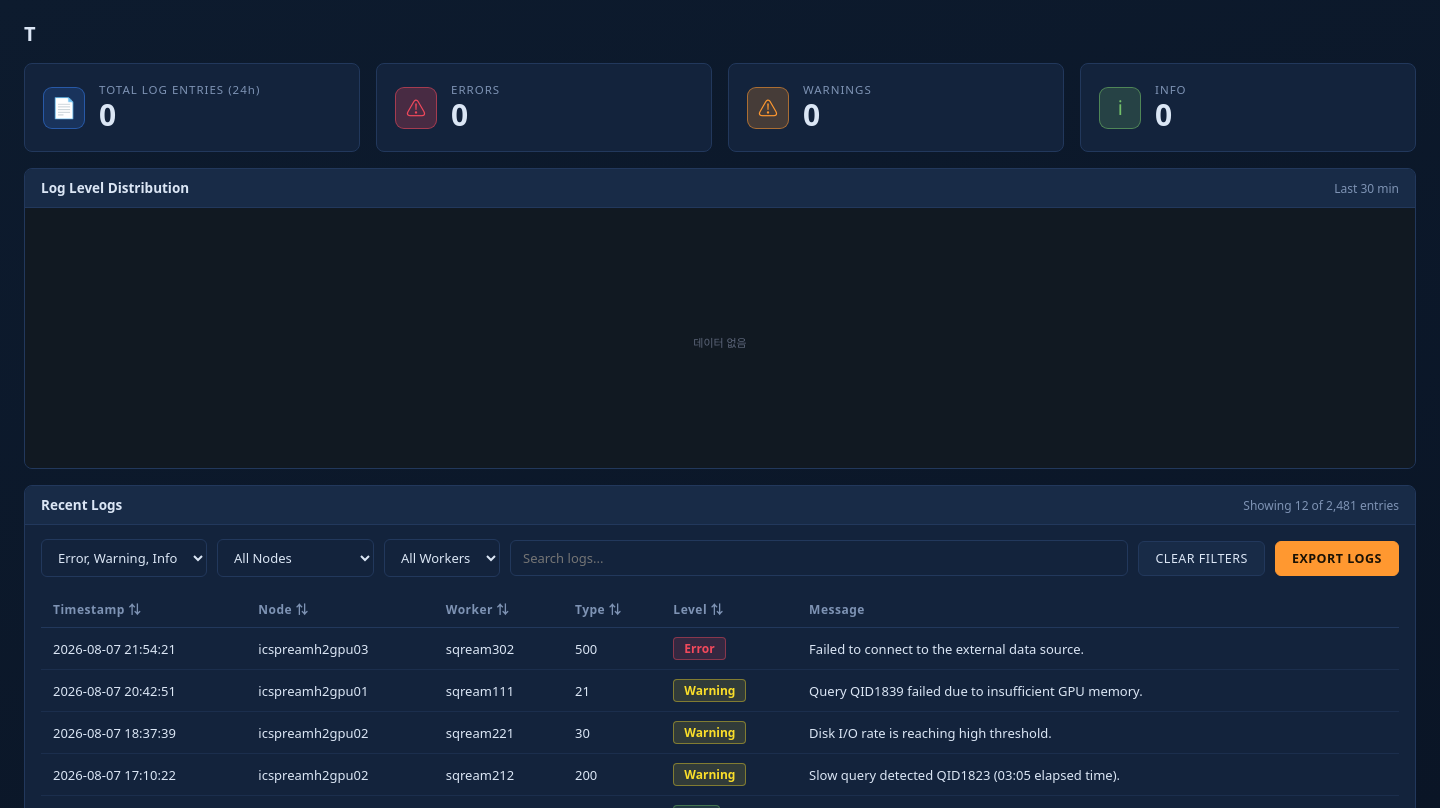
Scenario: Log Monitoring 화면 › 조건에 맞는 로그가 없으면 그렇게 말한다
The width and height of the screenshot is (1440, 808).
Type "존재하지않는문자열" into the field named "로그 검색". click: x=819, y=558
box: x1=510 y1=540 x2=1128 y2=576
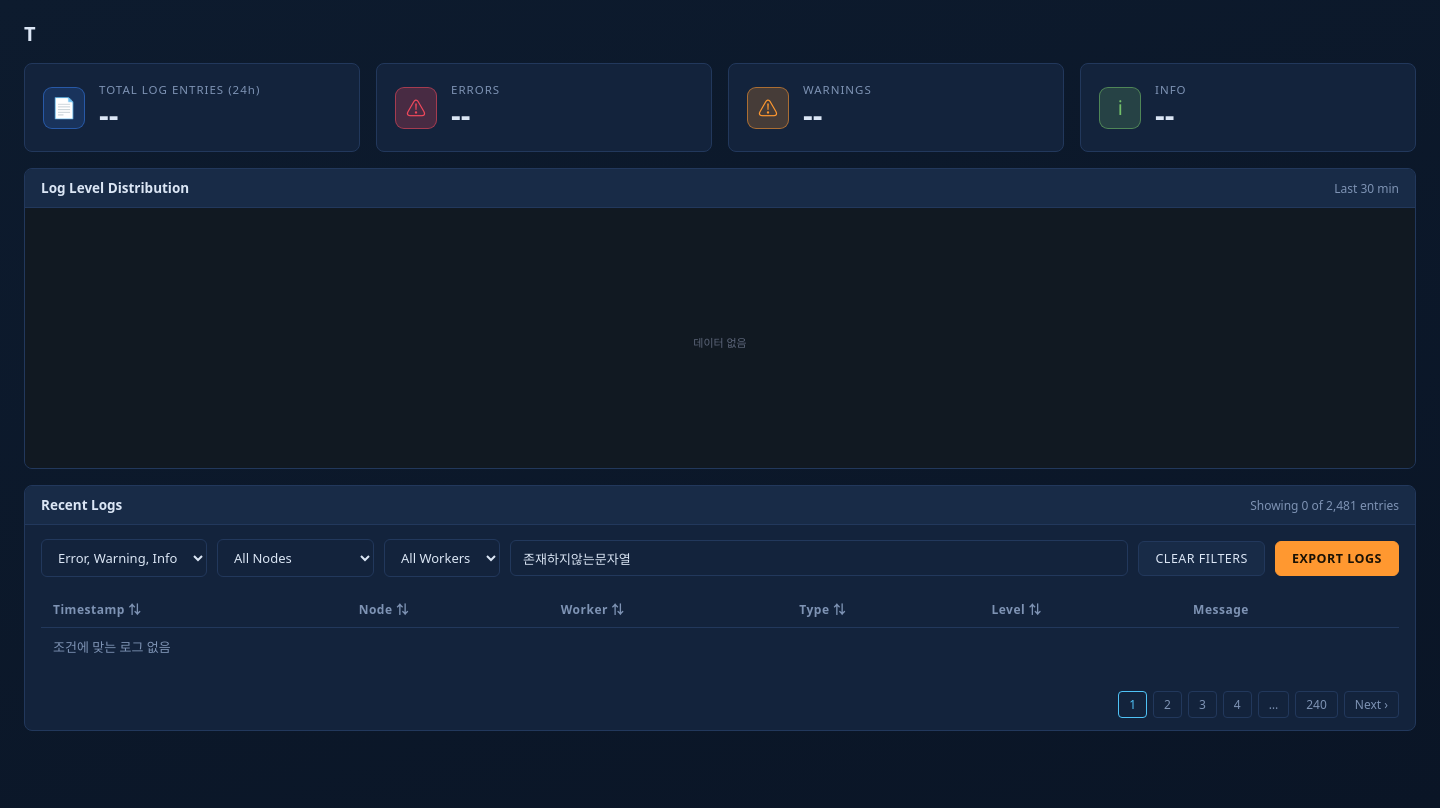
Result: the text "조건에 맞는 로그 없음" is shown at x1=41 y1=628 x2=1399 y2=665
